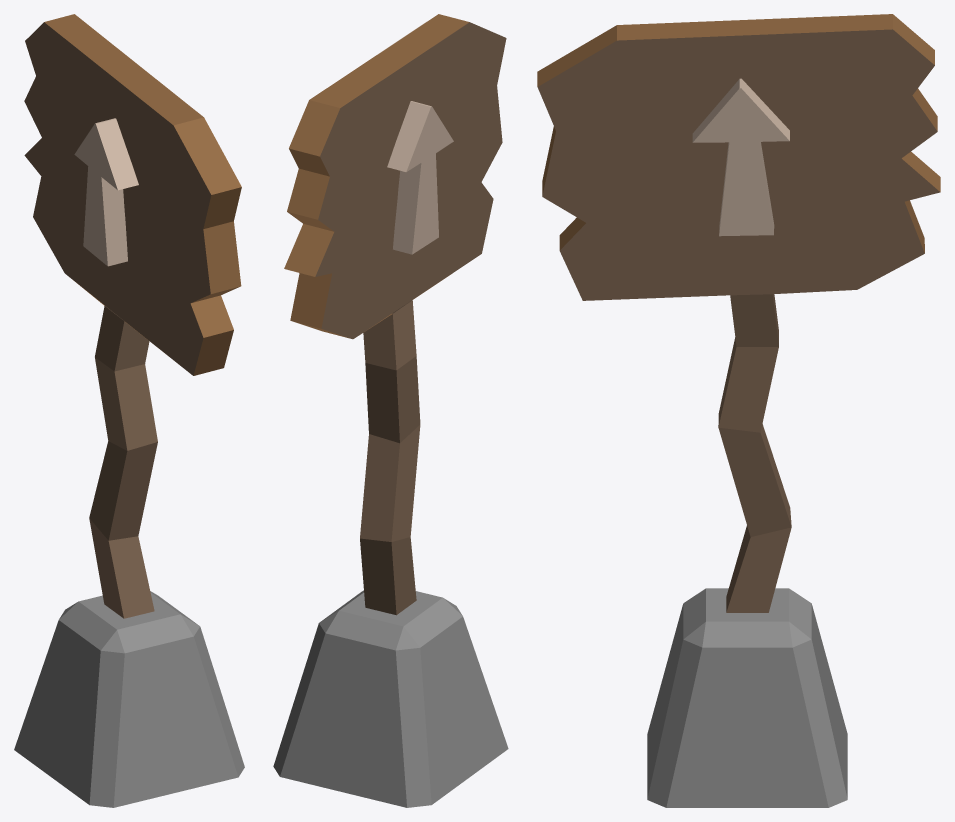
File: Sign-Up.fbx
3 views of the same model, side by side, from view 1: azimuth 30°, elevation 25°; view 2: azimuth 150°, elevation 25°; view 3: azimuth 270°, elevation 25° (orthographic). The views are drawn at different scales.
Visible parts, largest first — view 1: Cube, Cube.001; view 2: Cube, Cube.001; view 3: Cube, Cube.001.
Boxes of the visible parts, x1=… form: Cube: x1=14, y1=14, x2=244, y2=807; Cube.001: x1=74, y1=118, x2=138, y2=266; Cube: x1=273, y1=14, x2=508, y2=807; Cube.001: x1=387, y1=101, x2=453, y2=254; Cube: x1=537, y1=14, x2=940, y2=807; Cube.001: x1=692, y1=78, x2=789, y2=236.
Size of the model in its own units: 34.6 by 147 by 72.25.
